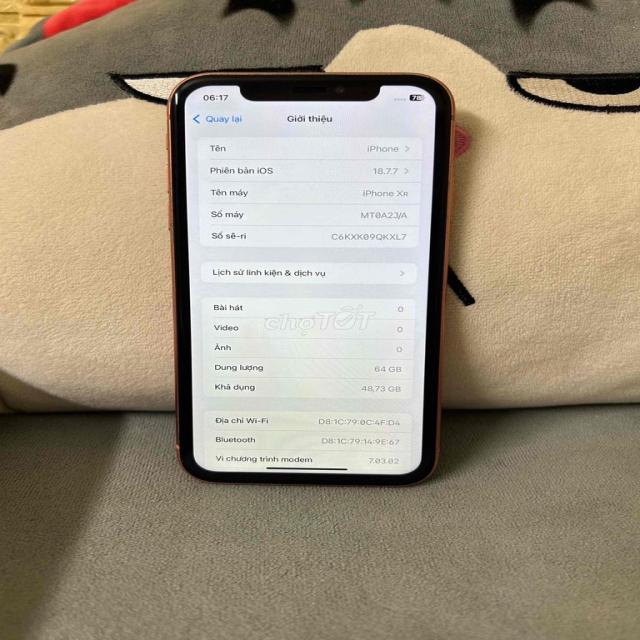gen_x_xs: (160, 69, 458, 493)
